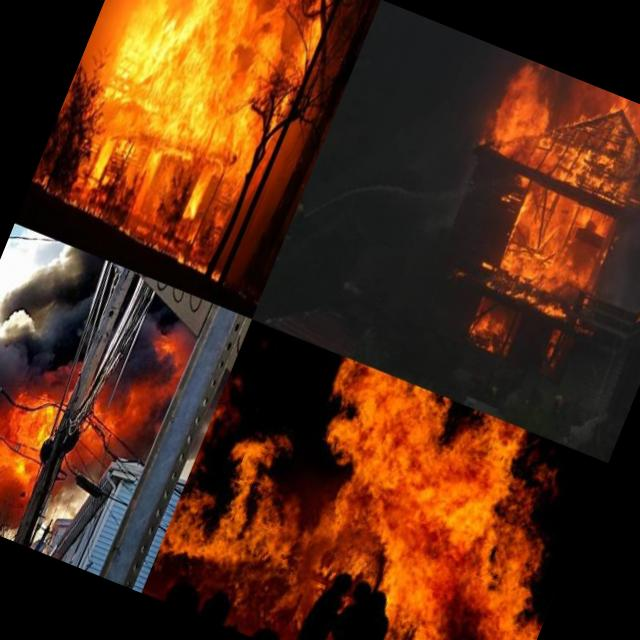fire: (150, 320, 607, 640), (50, 0, 344, 265), (0, 345, 140, 509), (496, 174, 618, 306), (529, 99, 640, 214), (476, 66, 564, 173), (463, 302, 518, 356), (536, 326, 568, 367), (631, 306, 640, 328)
smoke: (0, 229, 110, 358), (0, 320, 35, 489)
